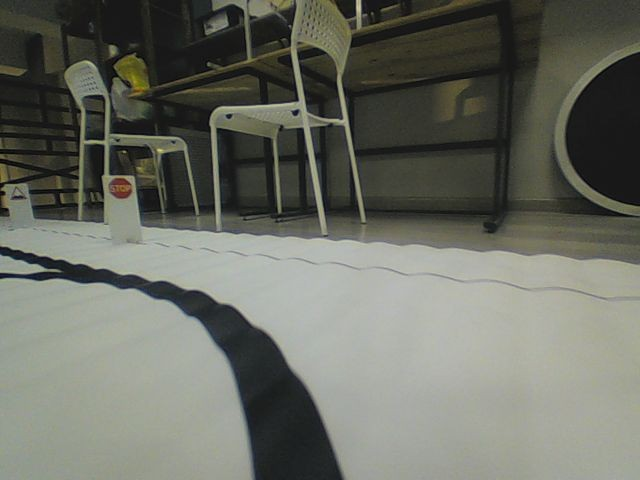Nerov: (10, 185, 27, 203)
Stop: (108, 177, 133, 200)
